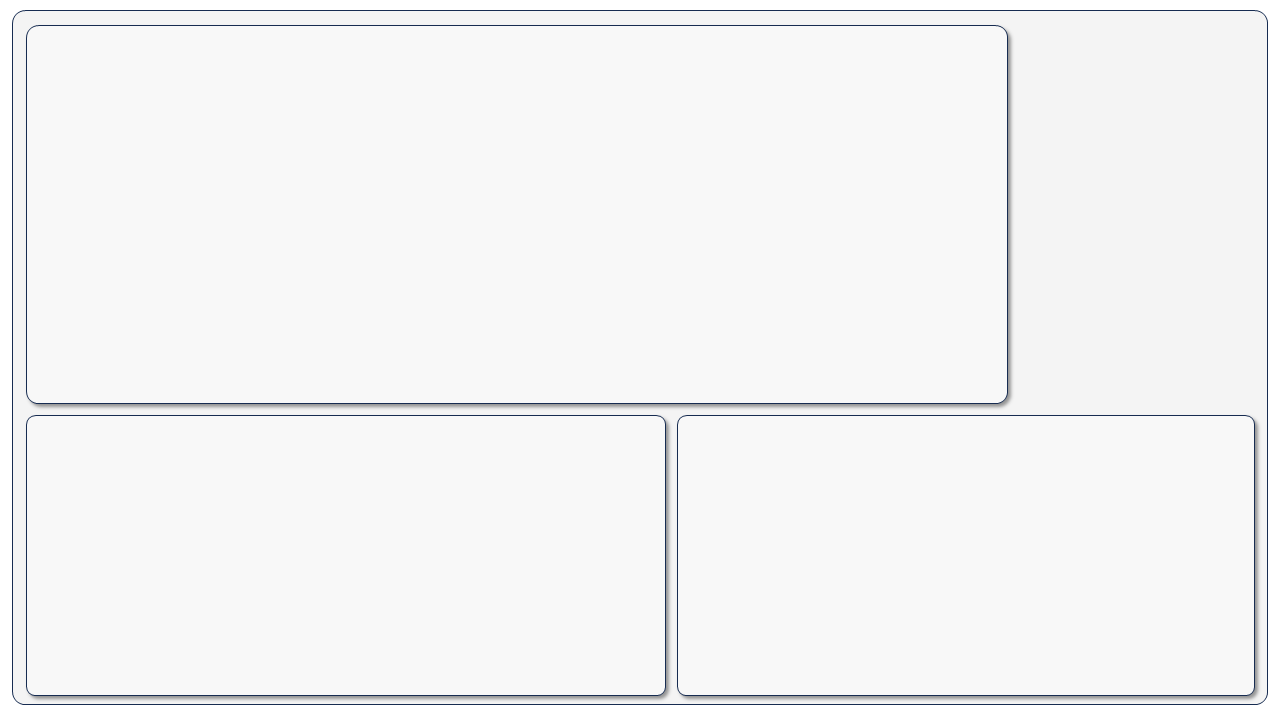

What the dashboard file says about the page in this screenshot:
{"tool":"powerbi","page":{"name":"Capa","canvas":[1280,720],"ordinal":0},"visuals":[{"type":"actionButton","box":[191.9,386,437.2,165.1],"z":0},{"type":"actionButton","box":[657.7,386.4,437.7,165.3],"z":1000}]}

Visuals, with their boxes in screenshot pixels (x1, y1, x2, y2), scaled from the page's 1280x720 canvas onto the 1280x720 screenshot:
actionButton: Rect(192, 386, 629, 551)
actionButton: Rect(658, 386, 1095, 552)
